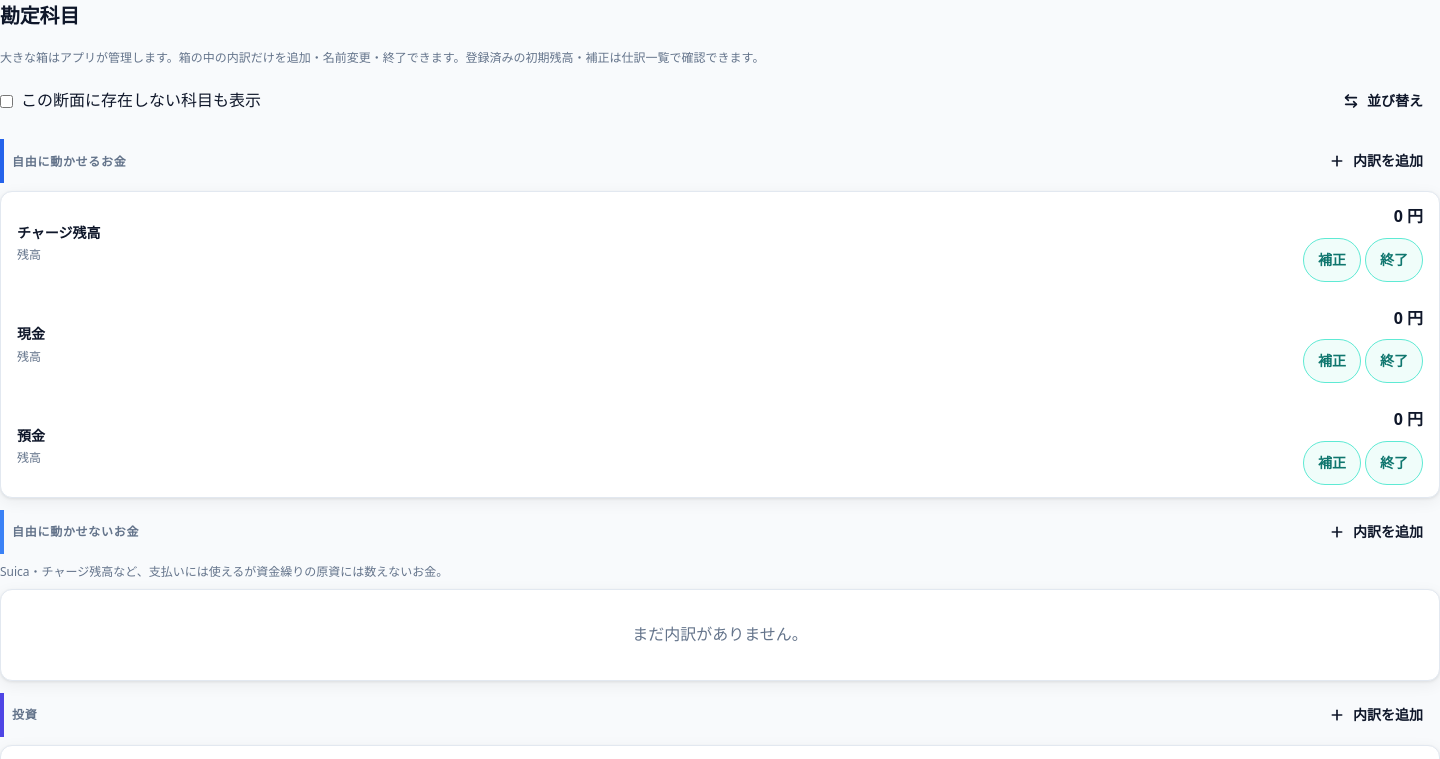
Scenario: 勘定科目の行の設計図（v13.2） › 終了はアイコンではなく tonal の文字ボタン（終了済みは「終了を解除」）
Click the button with aria-label "終了: チャージ残高".
click(1394, 260)  # box [1365,238,1423,282]
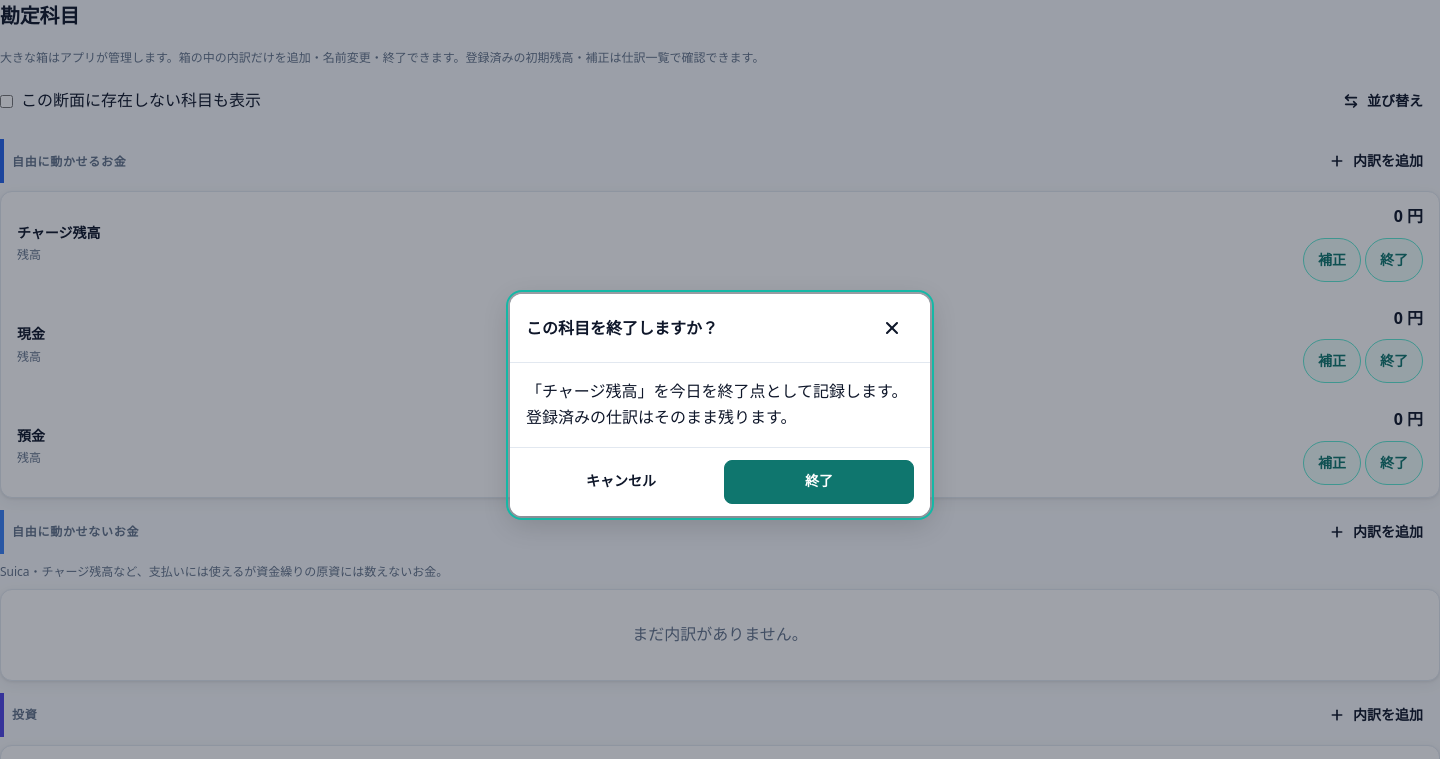
Click the button "終了".
click(819, 482)  # box [724,460,914,504]
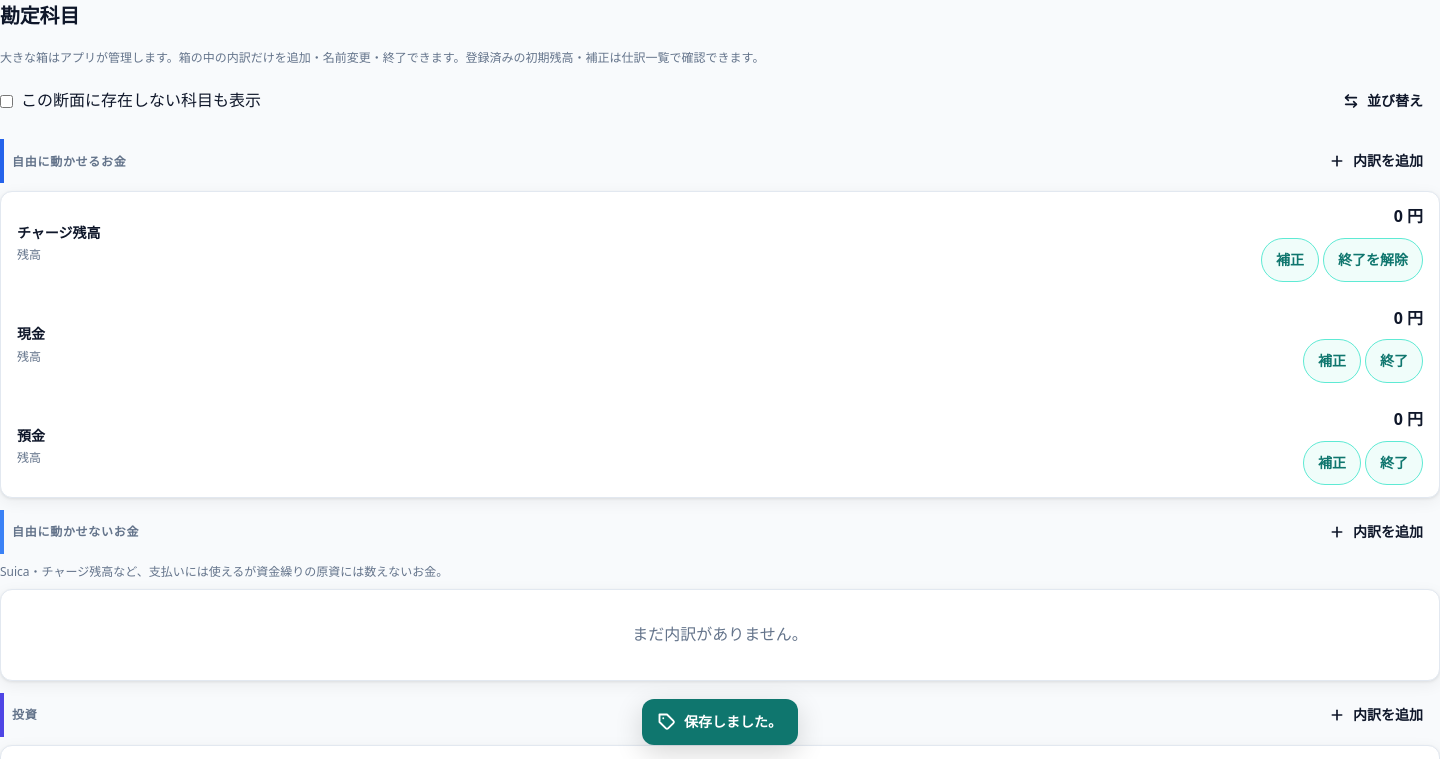
Expected: the button with aria-label "終了を解除: チャージ残高" reads "終了を解除", [1323,238,1423,282]
